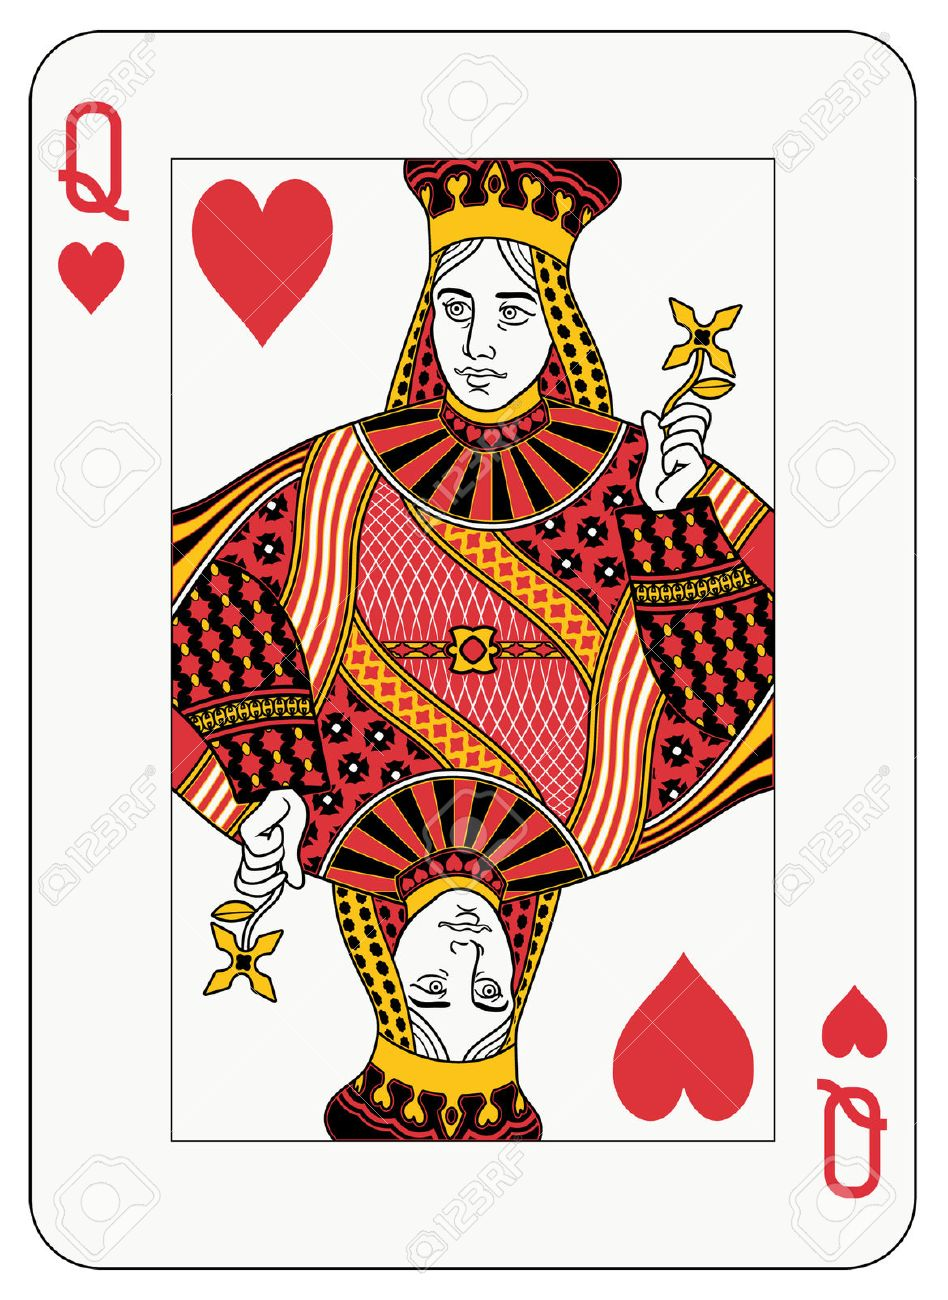queen of hearts: (33, 29, 919, 1261)
